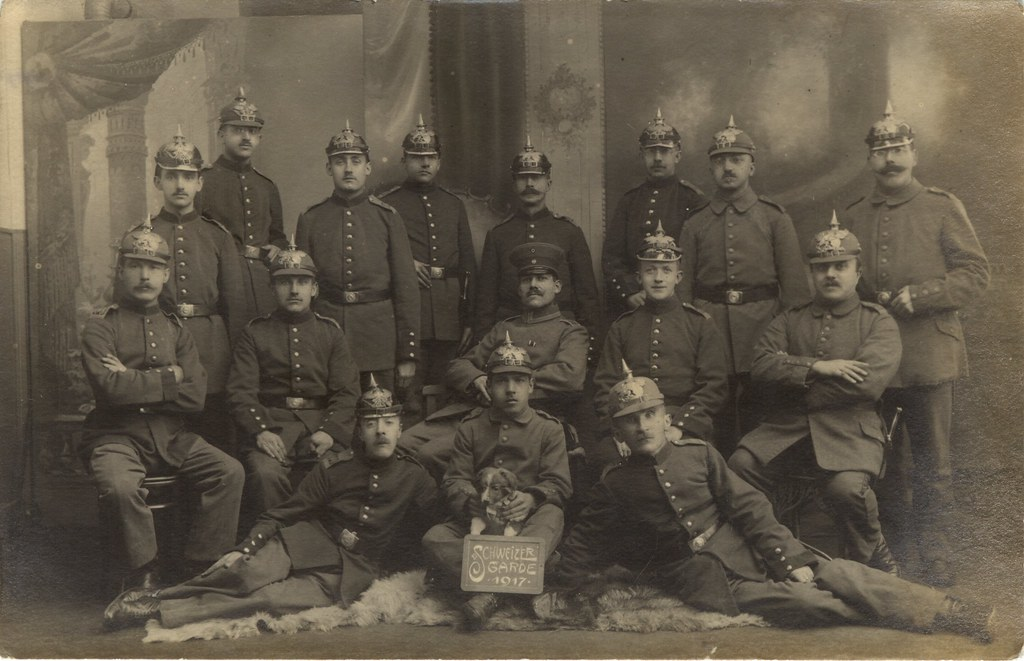helmet: (803, 228, 876, 267), (262, 243, 318, 283), (482, 342, 535, 382), (865, 107, 903, 157), (638, 108, 681, 151), (638, 236, 694, 266), (610, 384, 667, 413), (119, 228, 165, 261), (357, 383, 405, 414), (155, 131, 201, 163), (715, 124, 756, 159), (327, 128, 369, 161), (510, 149, 550, 173), (408, 129, 440, 153)
